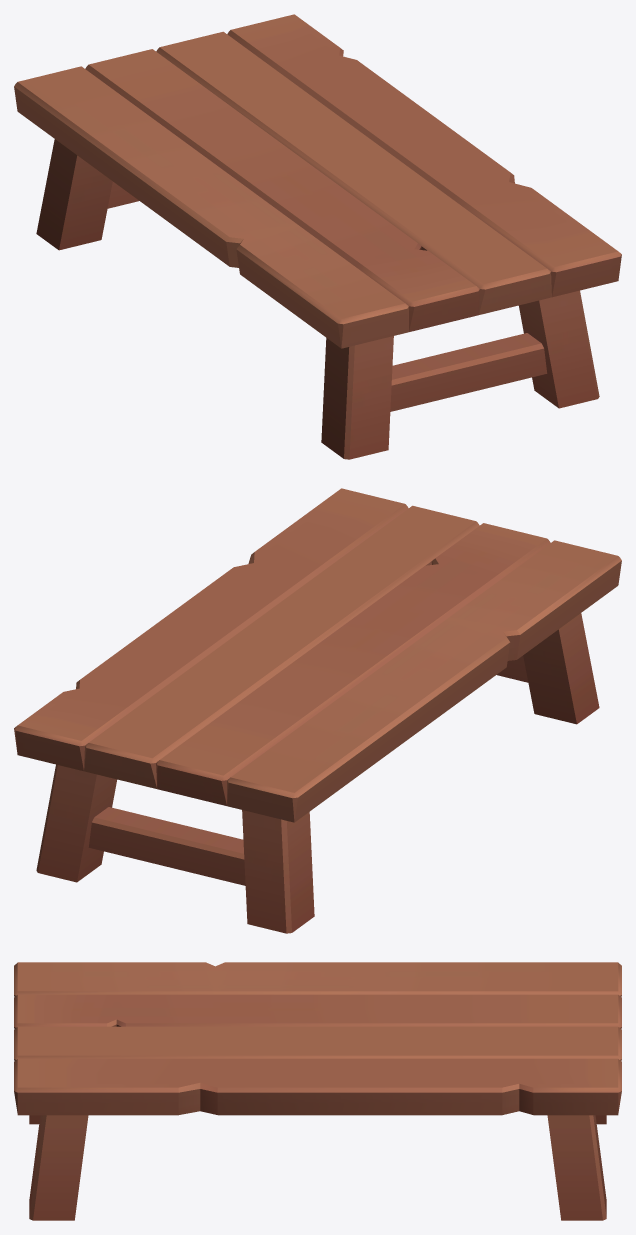
File: table-long-gltf.glb
The picture shows the model from 3 angles, top to bottom: view 1: azimuth 30°, elevation 25°; view 2: azimuth 150°, elevation 25°; view 3: azimuth 270°, elevation 25°; orthographic projection. The views are drawn at different scales.
Parts seen in each view (by area): view 1: table_long; view 2: table_long; view 3: table_long.
Part boxes in pixels (x1,y1,x2,y2): table_long: [14, 14, 621, 459]; table_long: [14, 488, 621, 933]; table_long: [14, 962, 621, 1220].
Size of the model in its own units: 2 by 1 by 4.
1 material, 1 textured.
